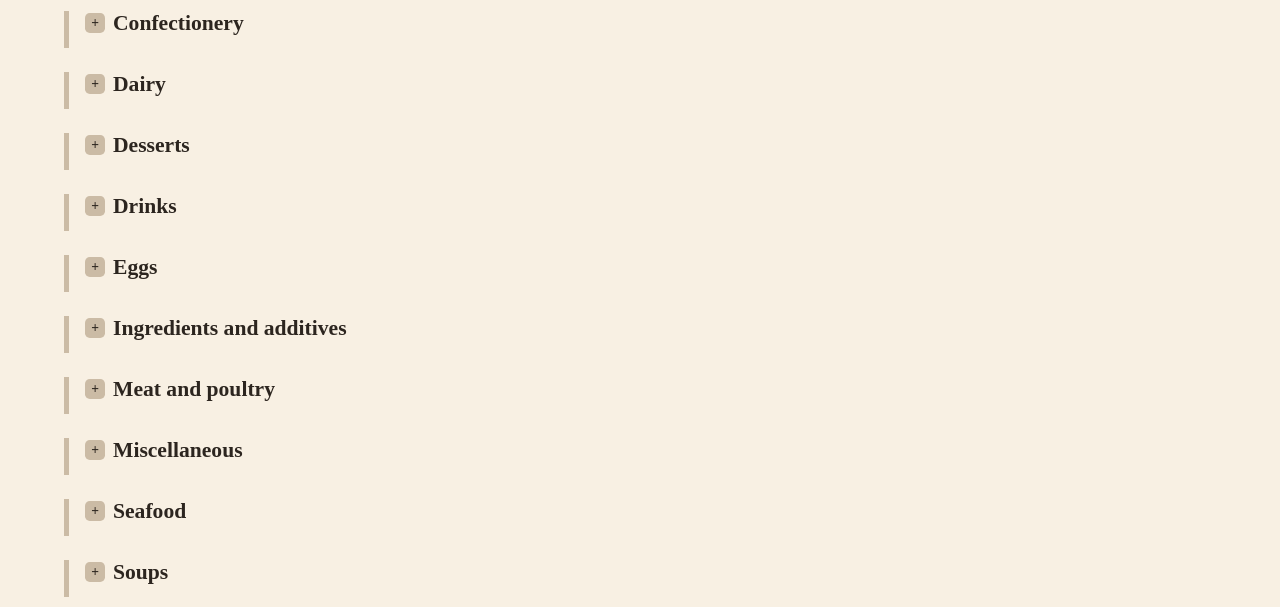
Test case: CataloguePage › opens a collapsed group holding a match and restores the browse state when the search clears
This screenshot has width=1280, height=607.
(page scrolled)
Click the button "+ Eggs": click(121, 267) [85,255,157,280]
(page scrolled)
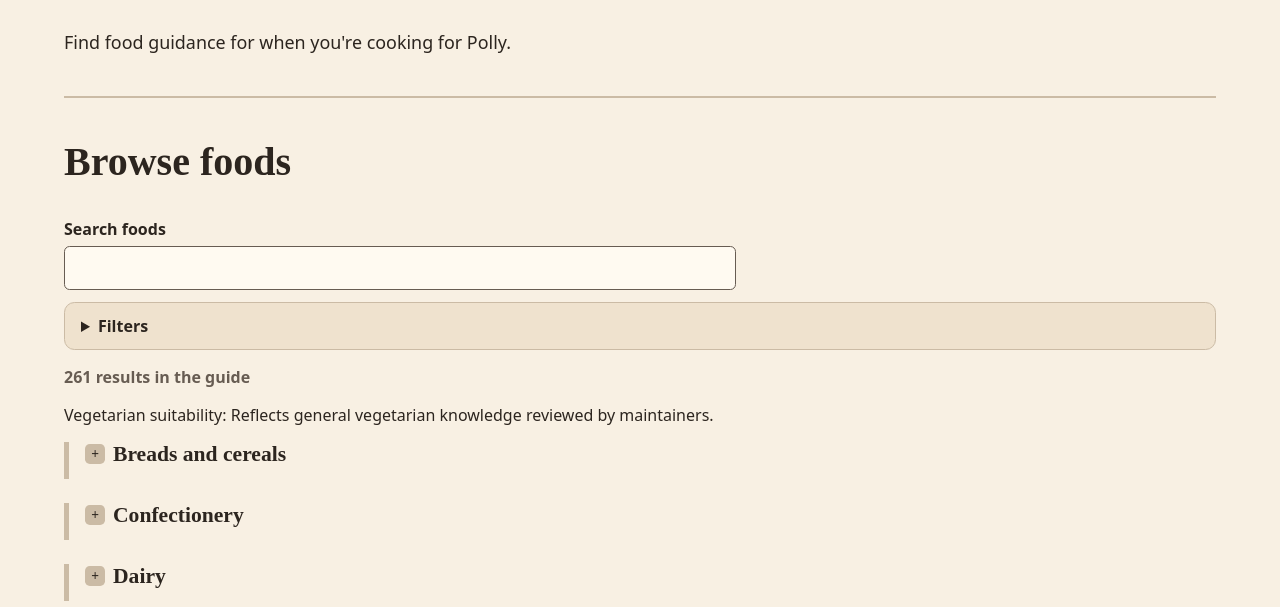
In the search field labelled "Search foods": (400, 268) [64,246,736,290], type "gouda"
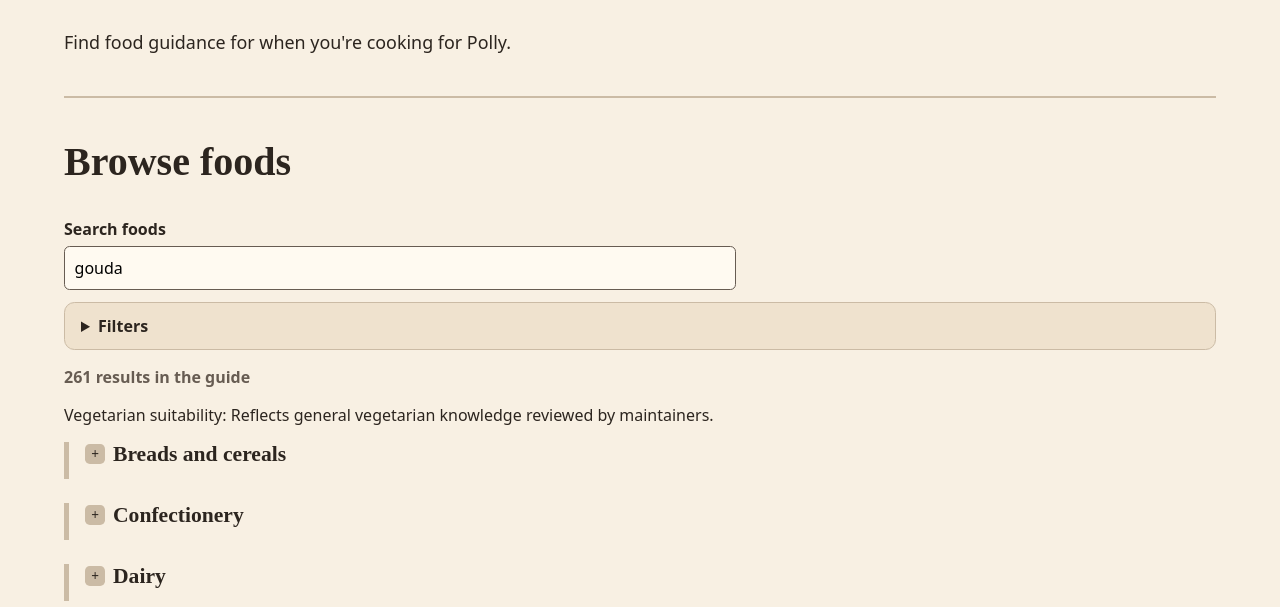
Submit the form labelled "Search foods", box [64,218,736,290]
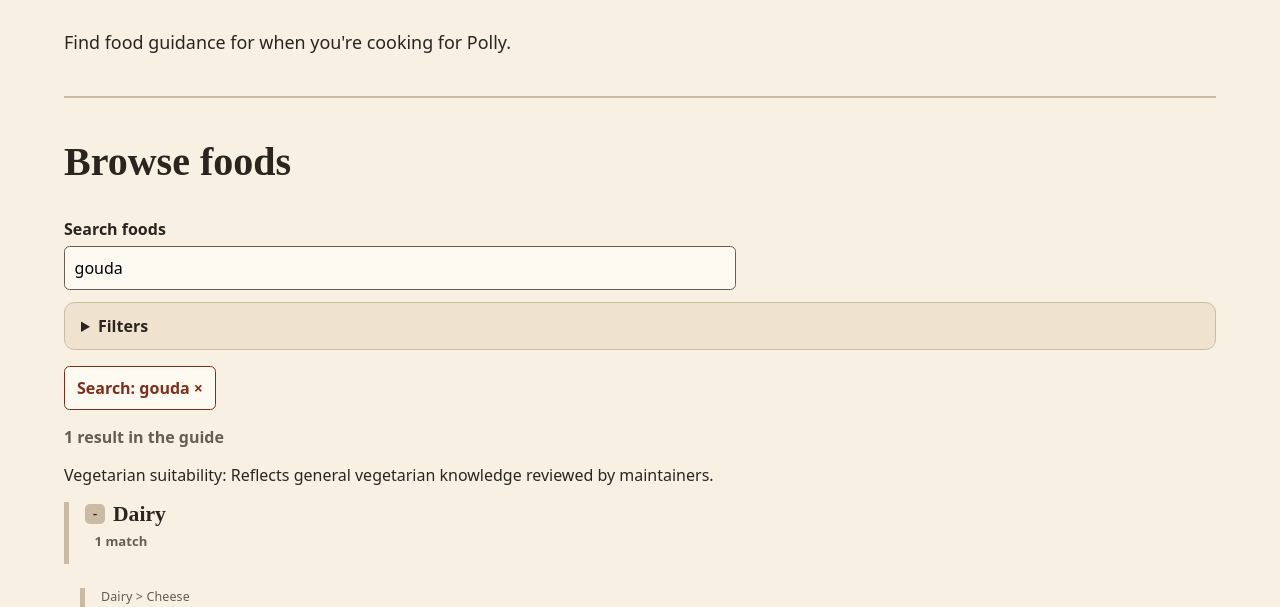
Expected: the button with aria-label "Dairy, level 1" is expanded, [85,502,166,527]
Clear the search field labelled "Search foods": (400, 268) [64,246,736,290]
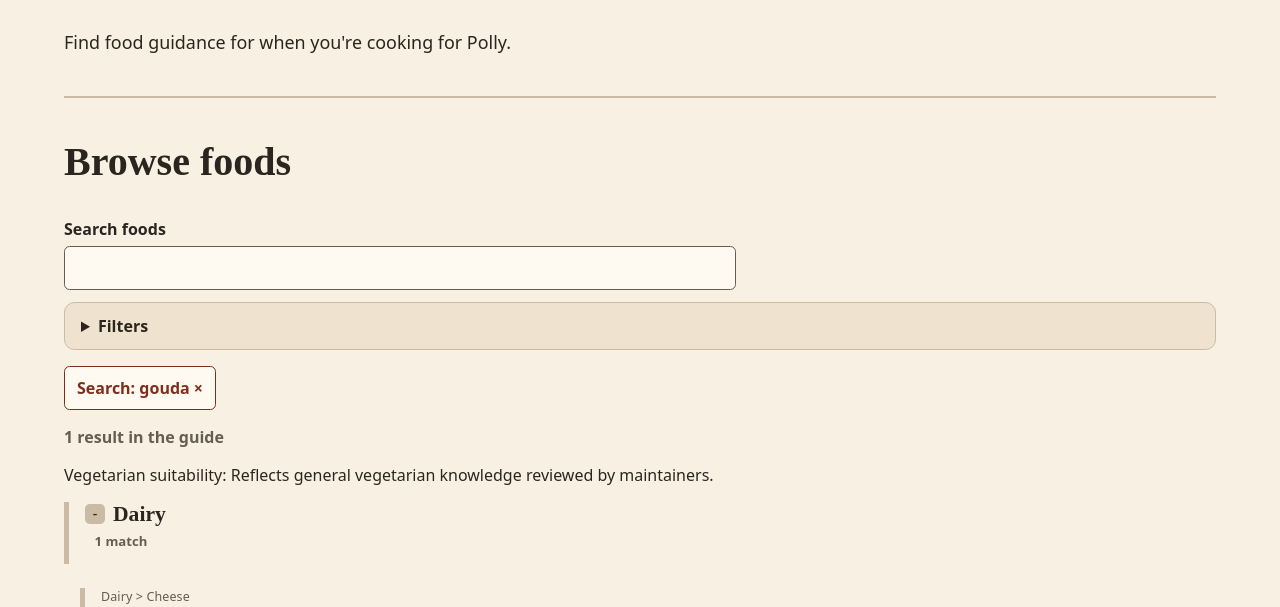
Submit the form labelled "Search foods", box [64,218,736,290]
(page scrolled)
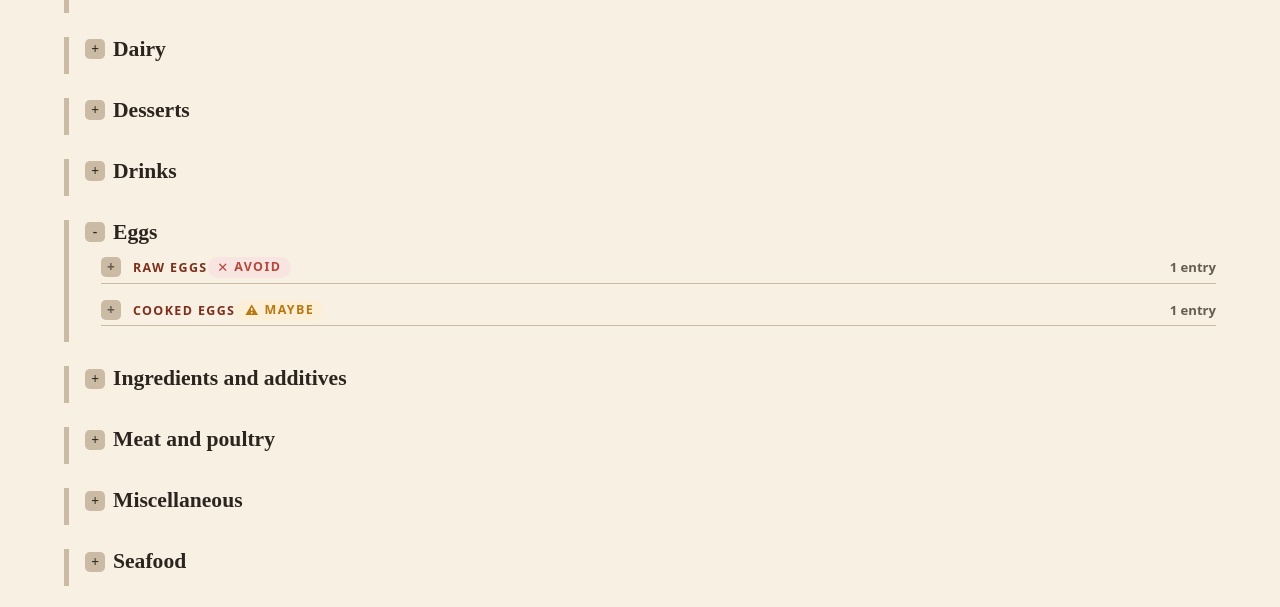
Expected: the button "gouda" is gone
Expected: the button with aria-label "Dairy, level 1" is collapsed, [85,37,166,62]
Expected: the heading "Raw Eggs ✕ Avoid" is shown, [133,257,291,278]
